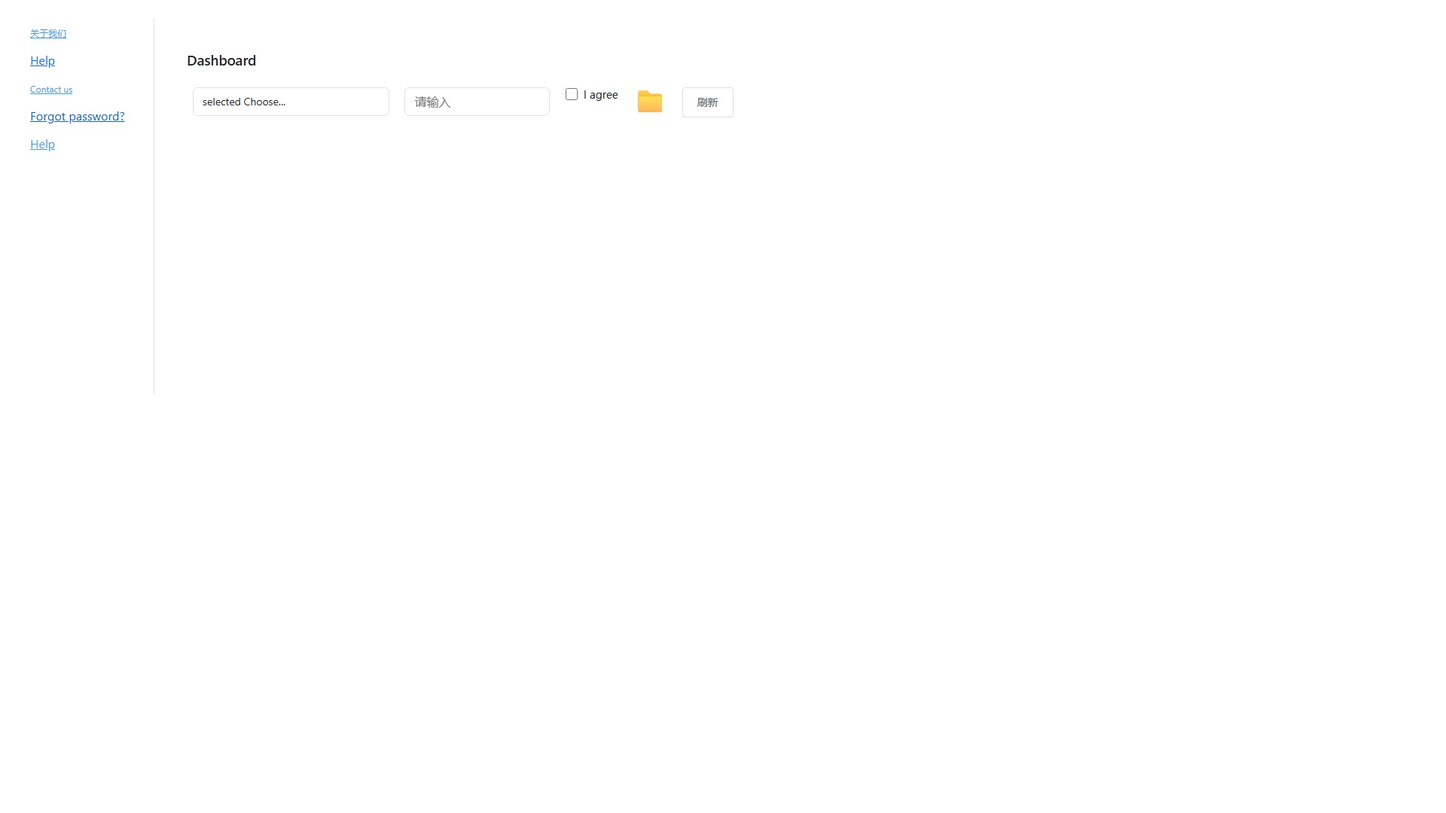button: (682, 87, 733, 117)
checkbox: (565, 88, 577, 100)
icon: (634, 87, 667, 111), (584, 87, 618, 101)
input: (405, 87, 550, 116)
link: (30, 108, 125, 123), (30, 83, 72, 95), (30, 27, 66, 39), (30, 52, 55, 68), (30, 136, 55, 151)
radio: (565, 87, 618, 101)
select: (193, 87, 389, 116)
